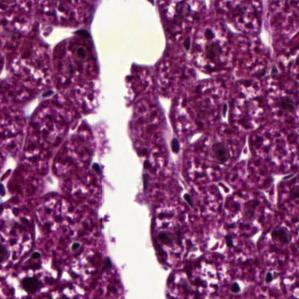inflammation: (179, 26, 228, 79), (10, 271, 51, 296), (226, 276, 249, 297)
